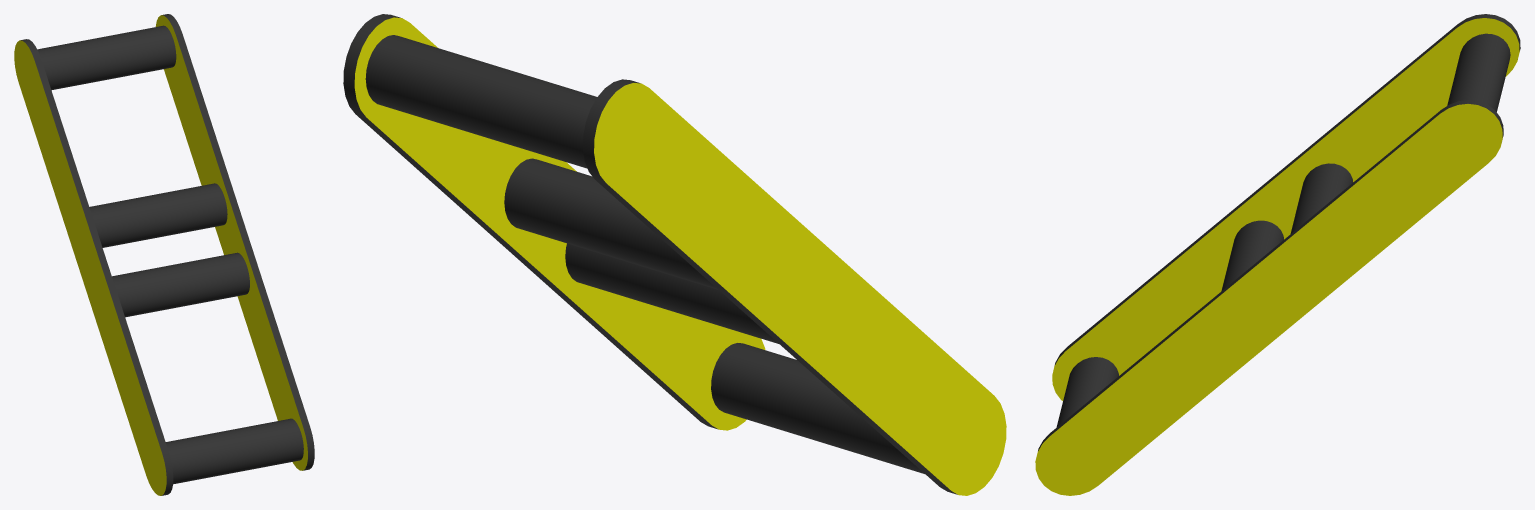
File: sgmNormal1.dae
The picture shows the model from 3 angles, left to right: view 1: azimuth 30°, elevation 25°; view 2: azimuth 150°, elevation 25°; view 3: azimuth 270°, elevation 25°; orthographic projection. The views are drawn at different scales.
Parts seen in each view (by area): view 1: group_0 (×8); view 2: group_0 (×8); view 3: group_0 (×8).
Boxes of the visible parts, bbox=[...] form: group_0 (×8): bbox=[14, 14, 314, 495]; group_0 (×8): bbox=[343, 14, 1006, 495]; group_0 (×8): bbox=[1035, 14, 1520, 495].
Size of the model in its own units: 0.6952 by 1.33 by 1.25.
